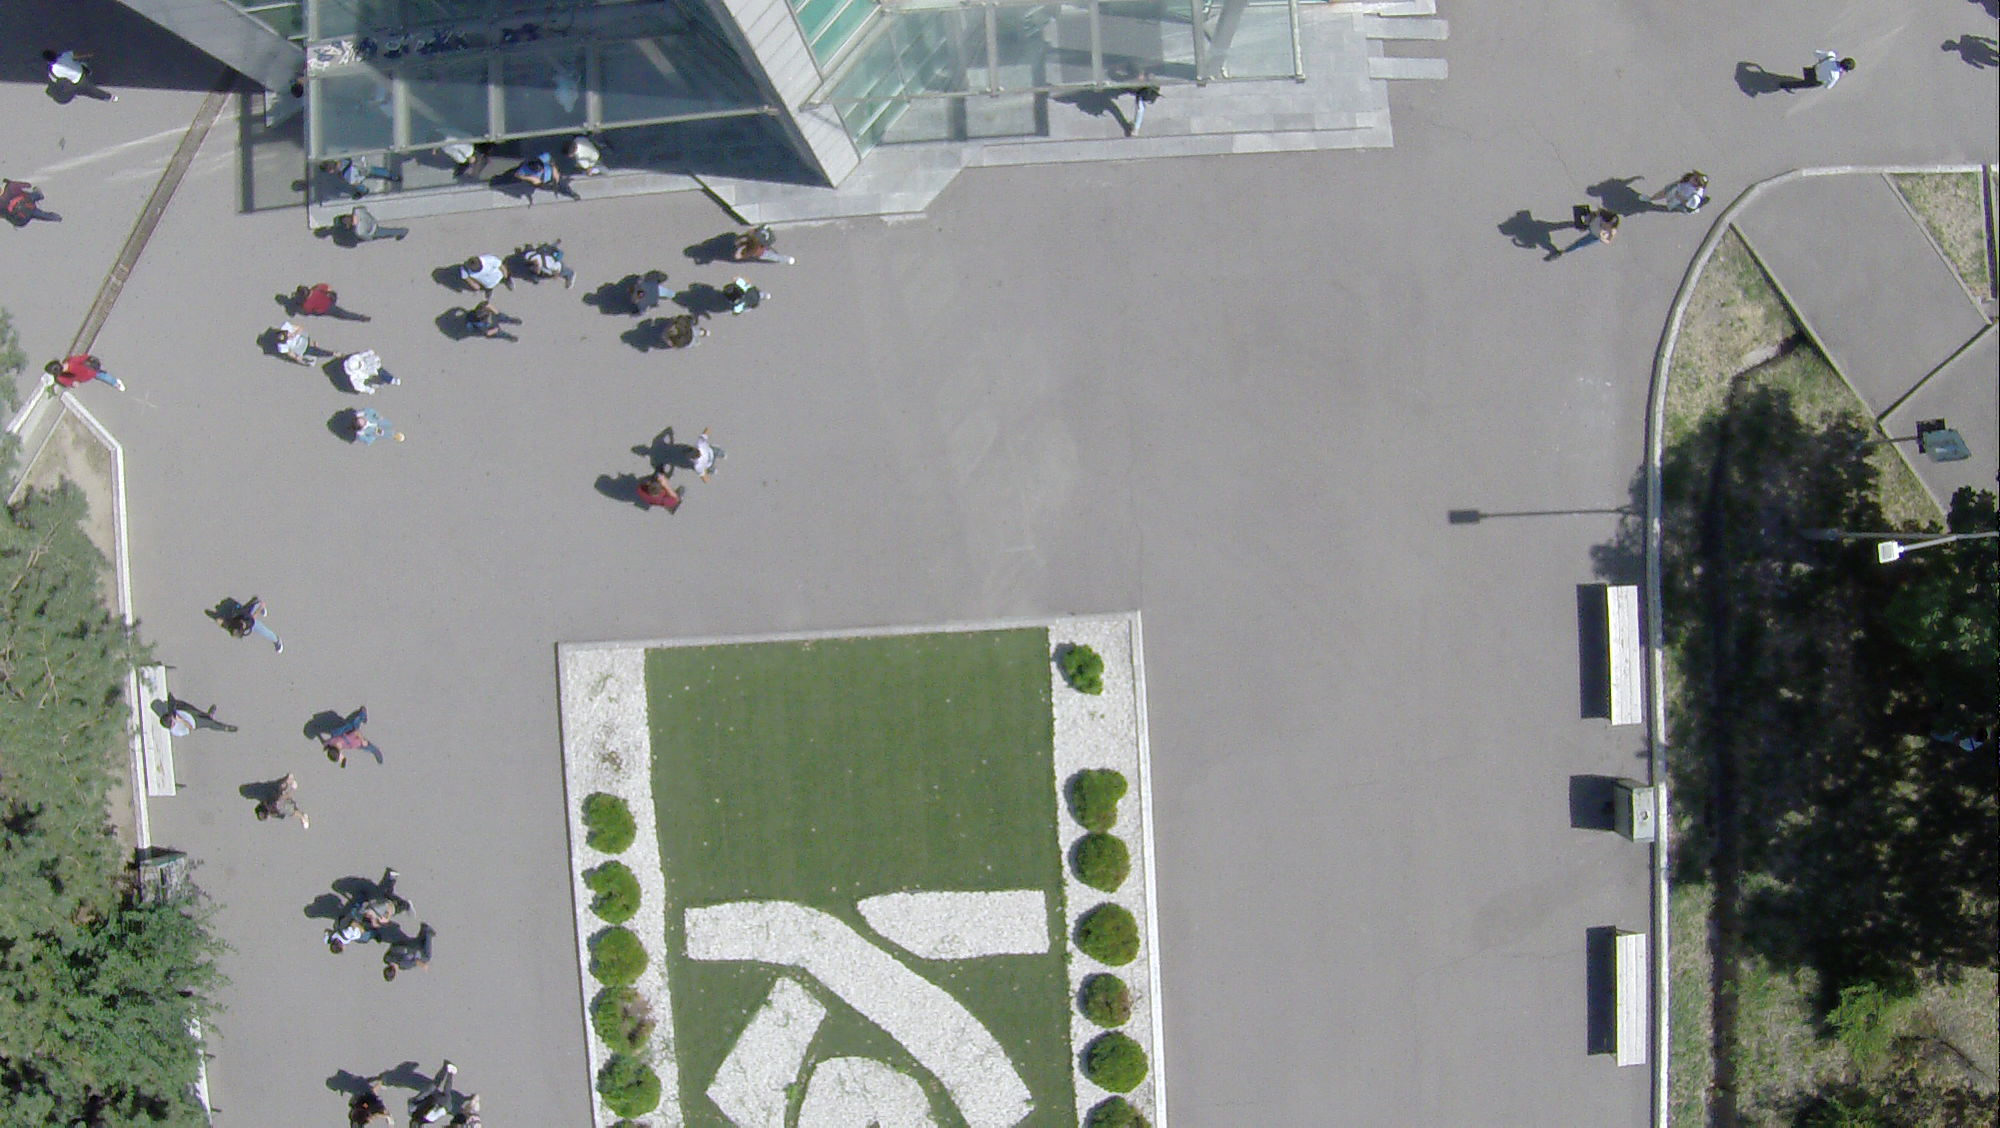person: (37, 46, 121, 105), (1546, 199, 1619, 262), (319, 708, 386, 773), (376, 921, 444, 987), (1637, 167, 1710, 220), (46, 350, 126, 396), (1781, 48, 1858, 95), (227, 594, 285, 655), (356, 868, 412, 927), (1, 181, 62, 235), (414, 1058, 459, 1128), (296, 283, 373, 323), (519, 238, 576, 292), (509, 155, 573, 204), (333, 203, 412, 241), (632, 463, 684, 518), (464, 302, 527, 348), (457, 253, 518, 299), (267, 324, 339, 363), (344, 350, 404, 394), (321, 912, 377, 960), (683, 427, 728, 484), (731, 227, 794, 266), (258, 778, 309, 827), (346, 406, 406, 447), (622, 269, 671, 317), (353, 1069, 391, 1128), (562, 134, 612, 177), (158, 707, 236, 735), (719, 277, 773, 316), (661, 315, 706, 353)
